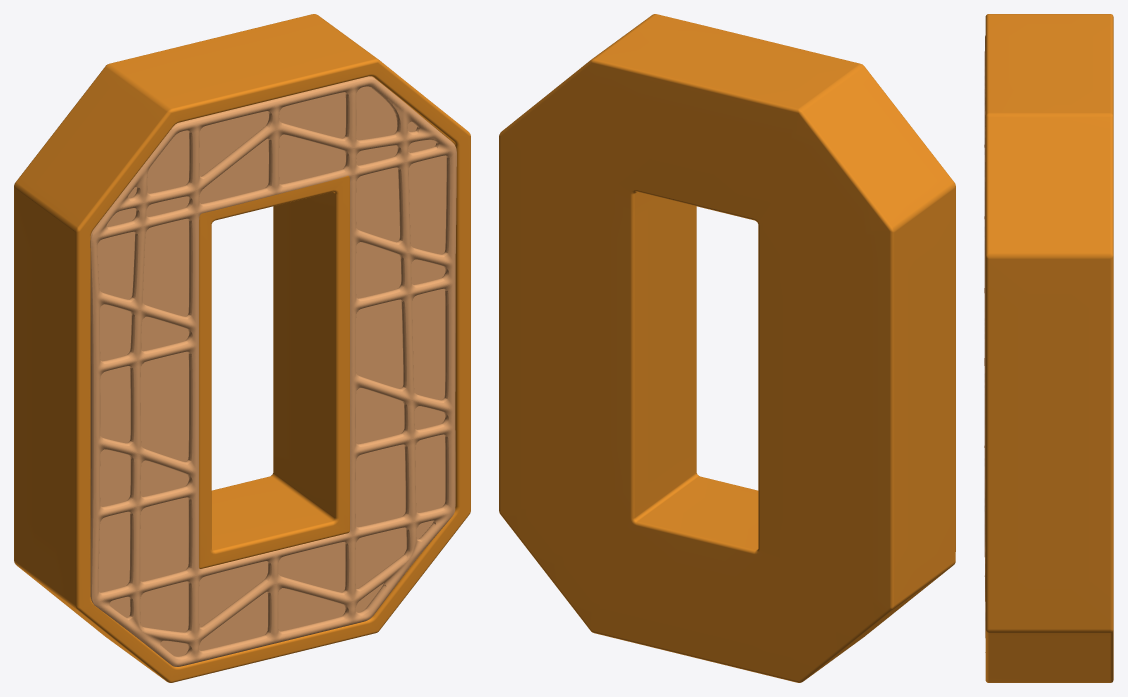
3 views of the same model, side by side, from view 1: azimuth 30°, elevation 25°; view 2: azimuth 150°, elevation 25°; view 3: azimuth 270°, elevation 25° (orthographic).
Visible parts, largest first — view 1: Text.015, Plane.015, Plane.046; view 2: Text.015; view 3: Text.015, Plane.046.
Part boxes in pixels (bbox=[...]): Text.015: bbox=[14, 14, 470, 682]; Plane.015: bbox=[97, 86, 446, 656]; Plane.046: bbox=[90, 76, 456, 666]; Text.015: bbox=[499, 14, 955, 682]; Text.015: bbox=[985, 14, 1113, 682]; Plane.046: bbox=[984, 35, 985, 652].
Size of the model in its own units: 2.44 by 3.39 by 0.6966.
